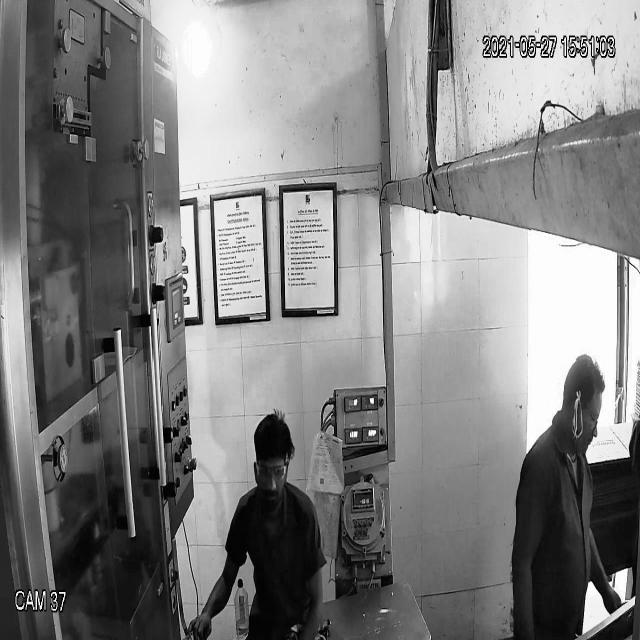glasses: (248, 453, 292, 488)
